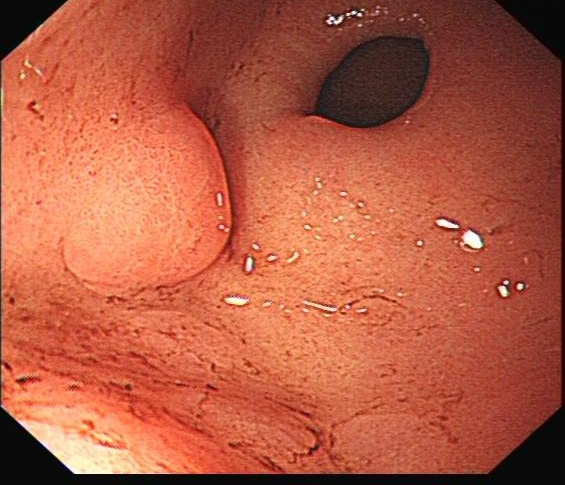Polyp: (72, 107, 243, 289)
